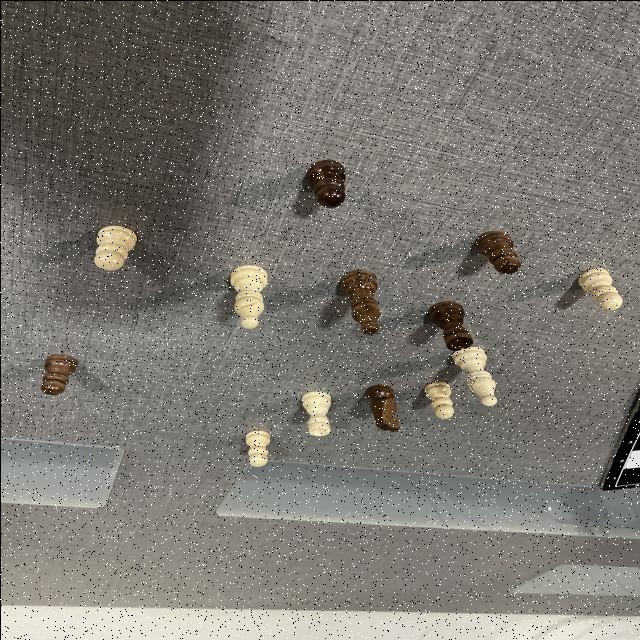Black-Bishop: (338, 268, 379, 334)
Black-Knight: (365, 386, 401, 432)
Black-Pawn: (306, 160, 346, 206), (476, 231, 518, 274), (40, 354, 76, 396)
Black-Rook: (428, 302, 472, 351)
White-Bishop: (450, 346, 496, 406), (230, 261, 265, 328)
White-Pawn: (90, 224, 136, 271), (576, 266, 622, 310), (424, 381, 452, 419), (244, 429, 270, 466)
White-Rook: (300, 390, 330, 434)
